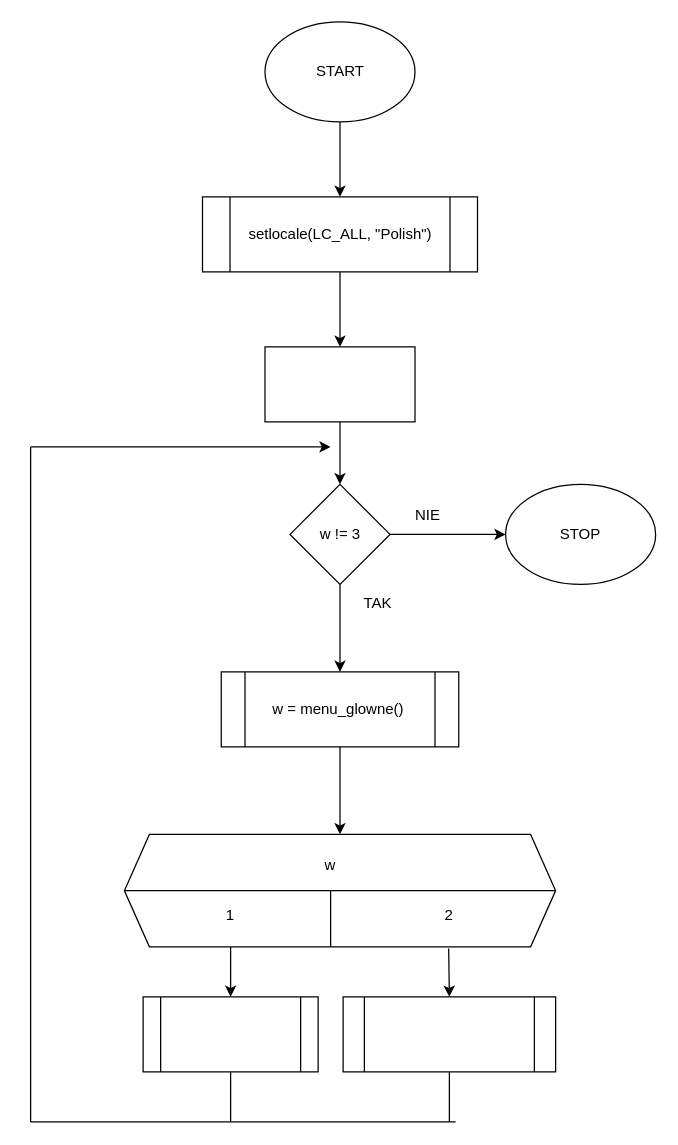
The diagram is 678 pixels wide and 1145 high, and some of its shapes have lost their labels. The box of each missing label's shape, as (x1, y1, x2, y2) in pixels:
int w = -1: (264, 346, 415, 422)
obliczanie_calki(): (142, 996, 318, 1072)
wypisanie_wynikow(): (342, 996, 556, 1072)
